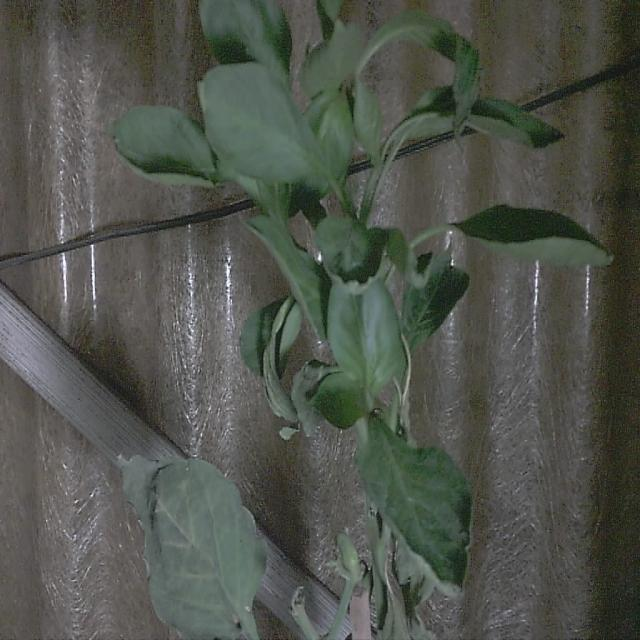Leaf: (114, 448, 265, 638), (354, 418, 472, 597), (200, 63, 322, 178), (107, 100, 215, 190), (327, 274, 404, 400)
